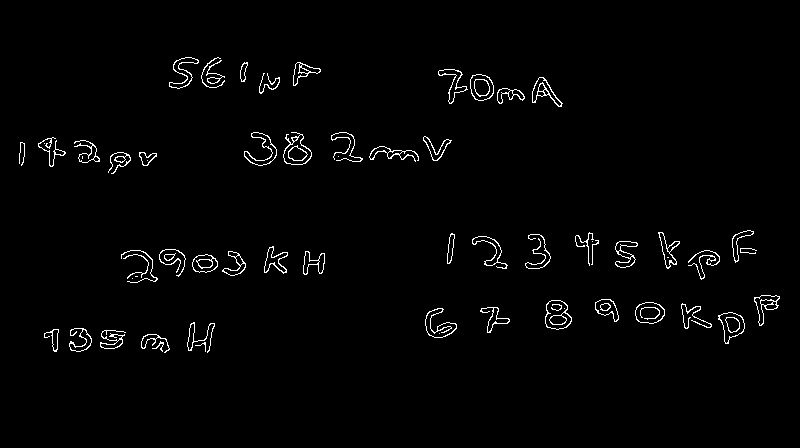0: (468, 72, 496, 103), (632, 300, 666, 324), (189, 250, 220, 274)
1: (40, 326, 61, 356), (443, 231, 459, 266), (16, 140, 29, 167), (237, 60, 249, 86)
2: (118, 247, 159, 288), (469, 234, 508, 272), (328, 129, 366, 164), (71, 137, 102, 165)
3: (241, 128, 280, 170), (523, 230, 553, 272), (220, 248, 251, 279), (66, 325, 96, 355), (160, 380, 161, 380)
4: (572, 230, 602, 267), (35, 135, 68, 168)
5: (166, 55, 200, 90), (613, 238, 640, 270), (98, 327, 127, 351)
6: (422, 306, 458, 340), (199, 55, 227, 90)
7: (434, 66, 470, 105), (478, 304, 513, 335)
8: (280, 129, 314, 167), (541, 297, 575, 332)
9: (157, 245, 188, 278), (593, 295, 621, 326)
A: (529, 75, 564, 109)
F: (730, 228, 759, 265), (752, 293, 781, 330), (289, 58, 323, 88)
H: (186, 320, 215, 354), (299, 249, 327, 278)
V: (421, 134, 454, 164), (137, 150, 161, 168)
k: (679, 300, 715, 332), (655, 228, 681, 269), (263, 244, 290, 275)
m: (366, 142, 421, 163)
n: (139, 331, 171, 355), (493, 86, 526, 107)
p: (686, 246, 721, 283), (715, 310, 749, 347), (107, 149, 134, 176)
u: (257, 70, 282, 96)
